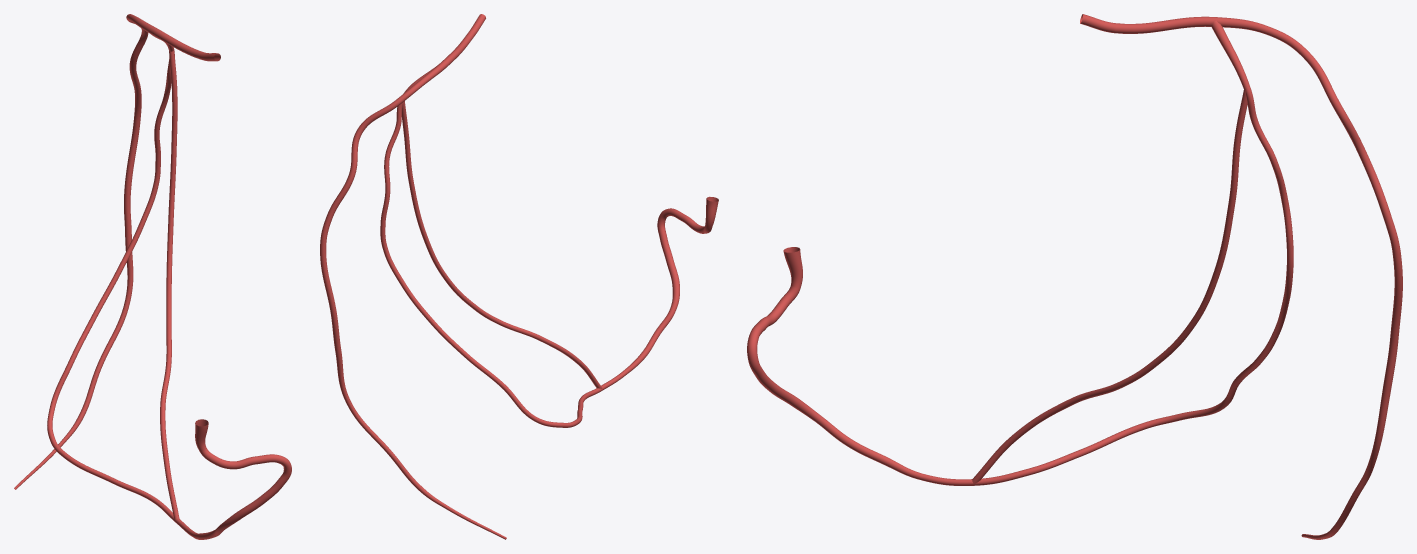
3 renders of one model, left to right at view 1: azimuth 30°, elevation 25°; view 2: azimuth 150°, elevation 25°; view 3: azimuth 270°, elevation 25°, orthographic. The views are drawn at different scales.
Visible parts, largest first — view 1: 左侧蝶腭动脉鼻后外侧支; view 2: 左侧蝶腭动脉鼻后外侧支; view 3: 左侧蝶腭动脉鼻后外侧支.
Boxes of the visible parts, bbox=[...] form: 左侧蝶腭动脉鼻后外侧支: bbox=[14, 14, 291, 539]; 左侧蝶腭动脉鼻后外侧支: bbox=[320, 14, 718, 539]; 左侧蝶腭动脉鼻后外侧支: bbox=[747, 14, 1402, 539].
Bounding box in the file's own units: 0.0233 × 0.0567 × 0.0569.
